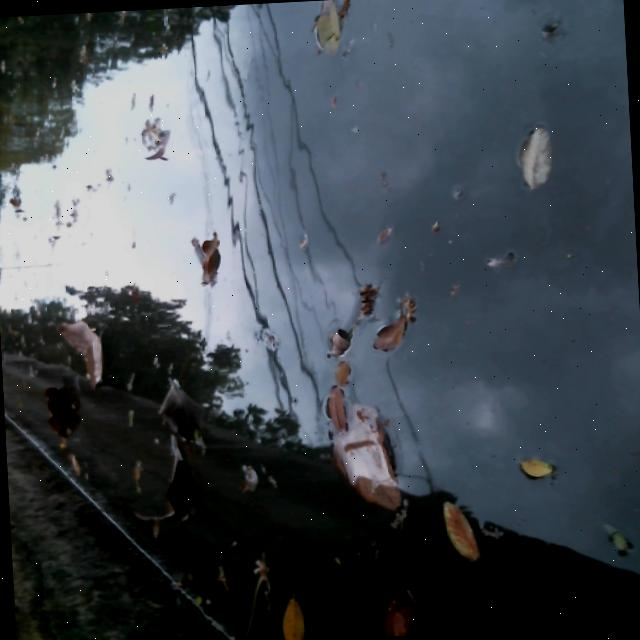Big-leaf: (125, 437, 209, 533), (330, 409, 410, 509), (49, 315, 118, 386), (37, 375, 86, 448), (158, 380, 210, 439)
Small-leaf: (346, 583, 446, 639), (510, 123, 567, 193), (438, 495, 497, 560), (182, 228, 235, 299), (233, 557, 276, 640), (126, 109, 184, 167), (308, 0, 358, 62), (593, 512, 640, 568), (364, 310, 422, 351), (269, 593, 316, 640), (237, 464, 288, 502), (254, 317, 299, 360), (313, 387, 354, 433), (317, 322, 363, 357), (370, 219, 404, 248), (328, 355, 356, 387), (4, 190, 32, 221), (539, 14, 564, 48), (519, 452, 551, 477), (295, 228, 321, 256), (490, 247, 517, 271)
